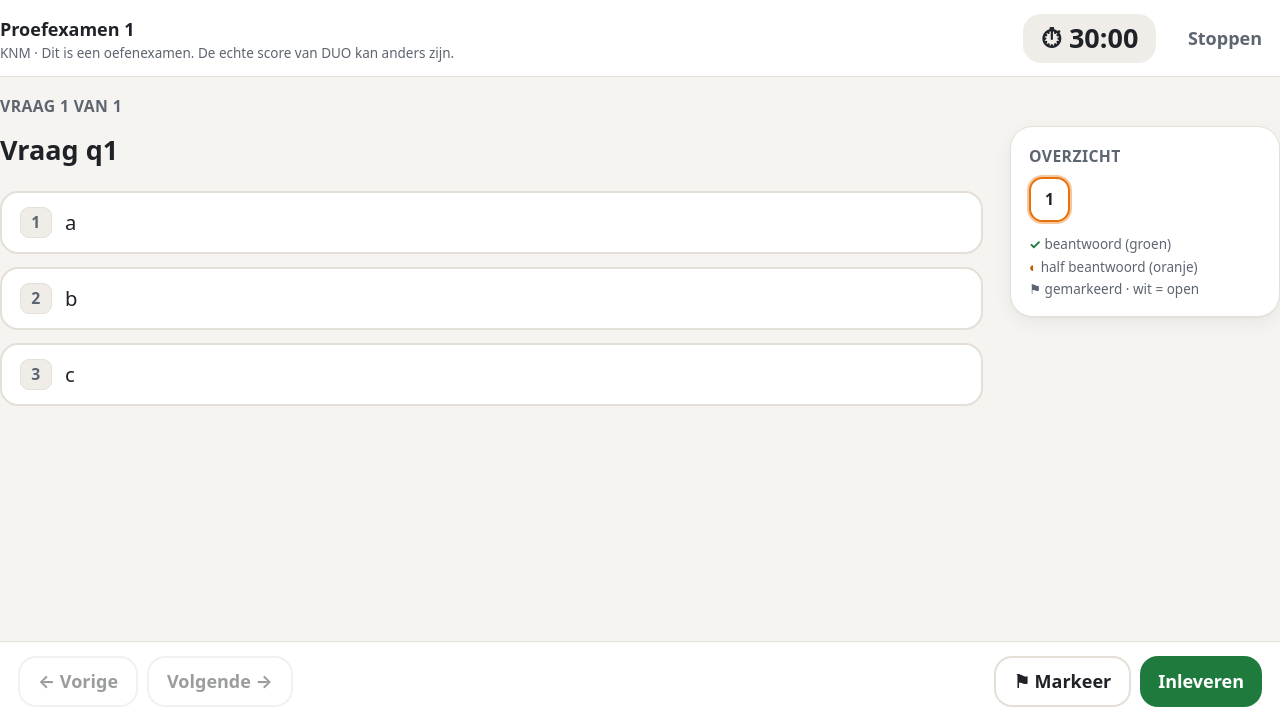
Scenario: handing in › when everything is answered it says so
The width and height of the screenshot is (1280, 720).
Click the button "1 a". click: (36, 222)
box: [0,191,983,254]
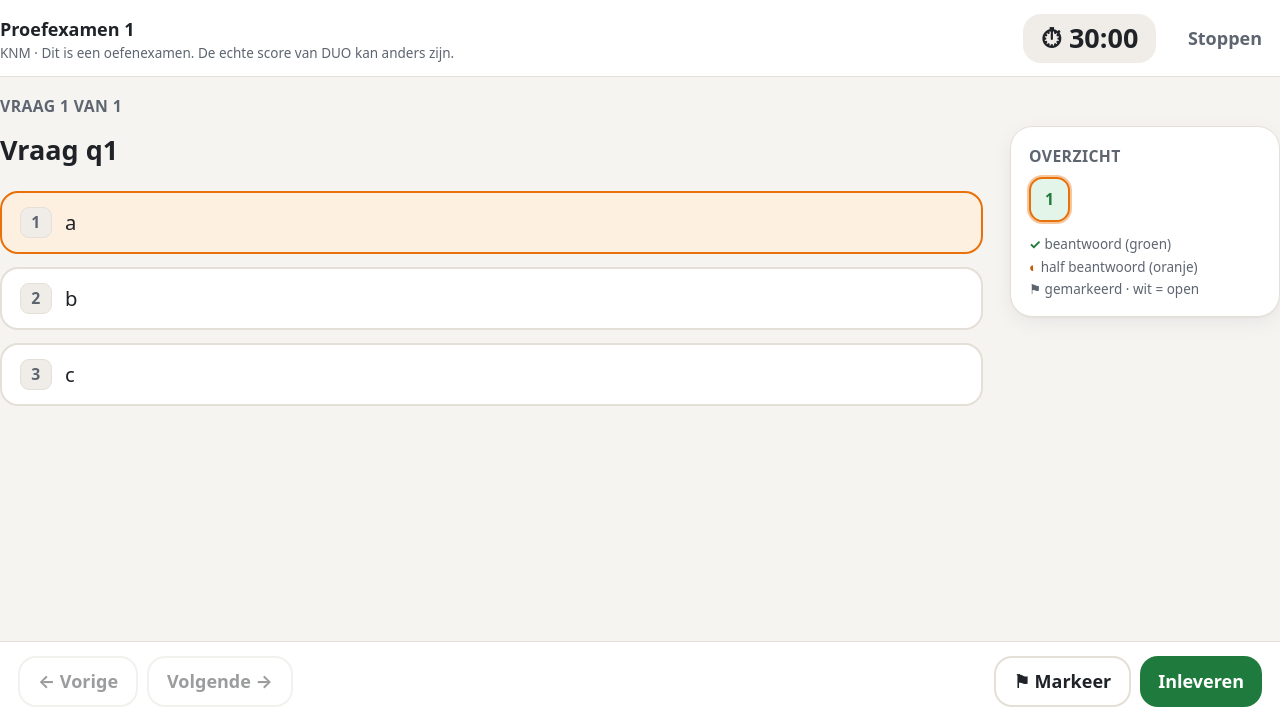
Click the button "Inleveren". click: (1201, 681)
box: [1140,656,1262,706]
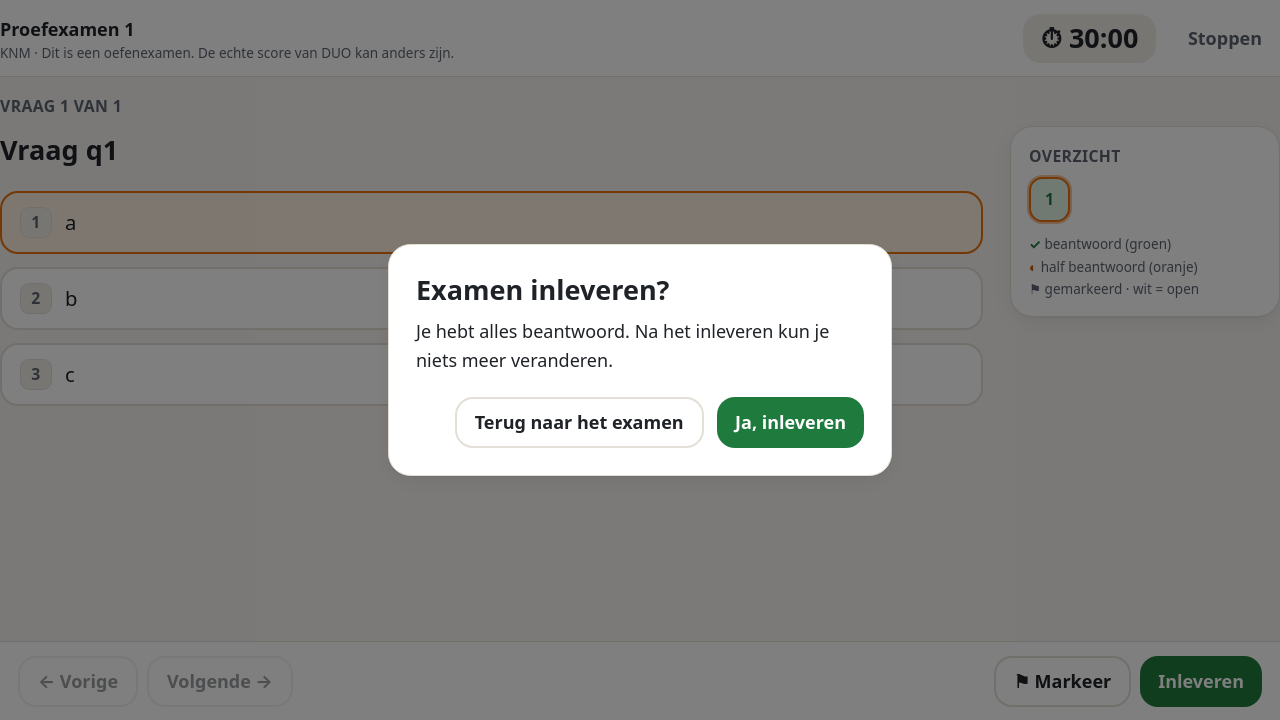
Expected: the text "Je hebt alles beantwoord." is shown, [416,319,630,343]
